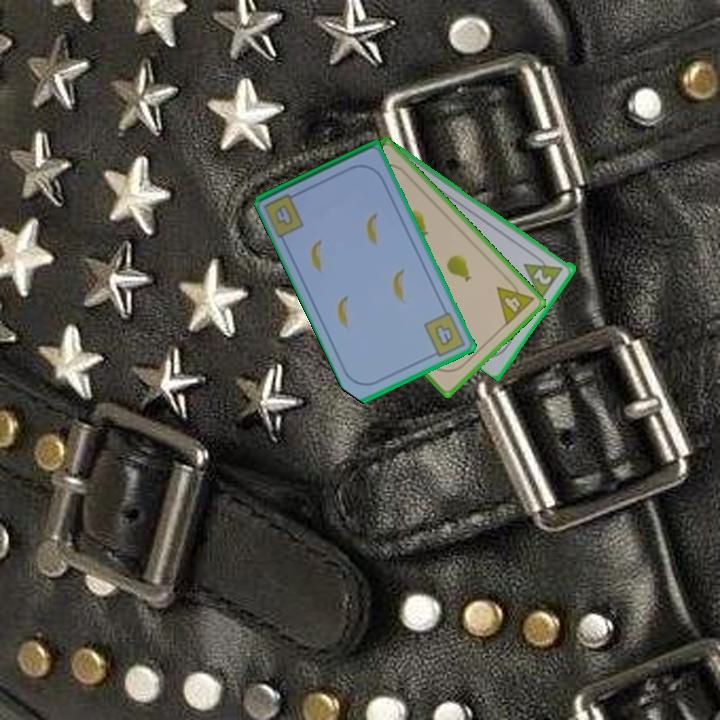2p: (520, 249, 566, 301)
4b: (420, 309, 469, 361), (271, 201, 297, 229)
4p: (493, 274, 537, 329)
